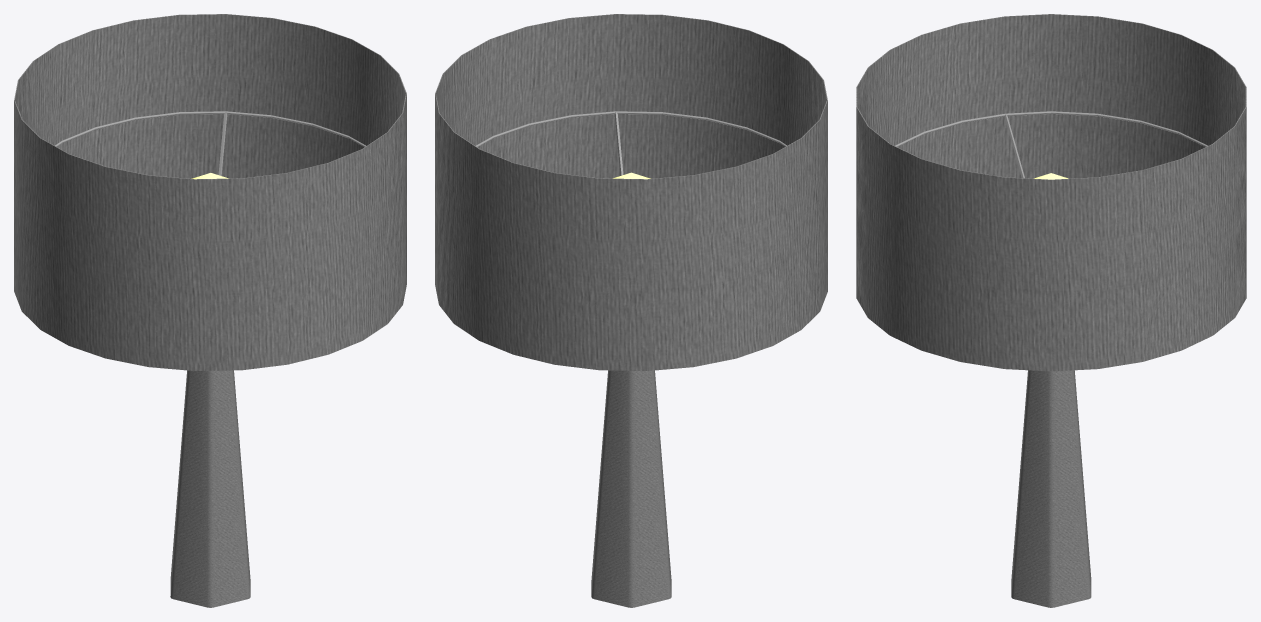
File: lamp.glb
3 views of the same model, side by side, from view 1: azimuth 30°, elevation 25°; view 2: azimuth 150°, elevation 25°; view 3: azimuth 270°, elevation 25° (orthographic).
Parts seen in each view (by area): view 1: Object_3; view 2: Object_3; view 3: Object_3.
Boxes of the visible parts, <box> form: Object_3: <box>14,14,406,607</box>; Object_3: <box>435,14,827,607</box>; Object_3: <box>856,14,1246,607</box>.
Bounding box in the file's own units: 17.98 × 24.83 × 17.85.
Materials: 1 (1 with a texture image).
